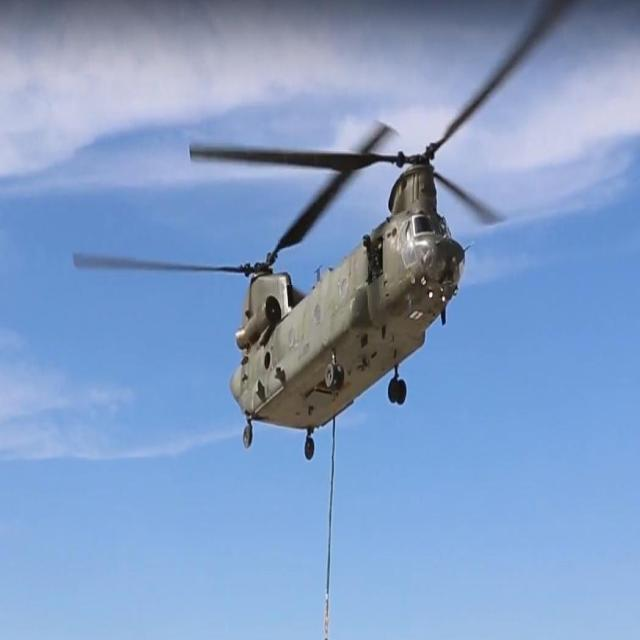Helicopter: (155, 70, 502, 484)
